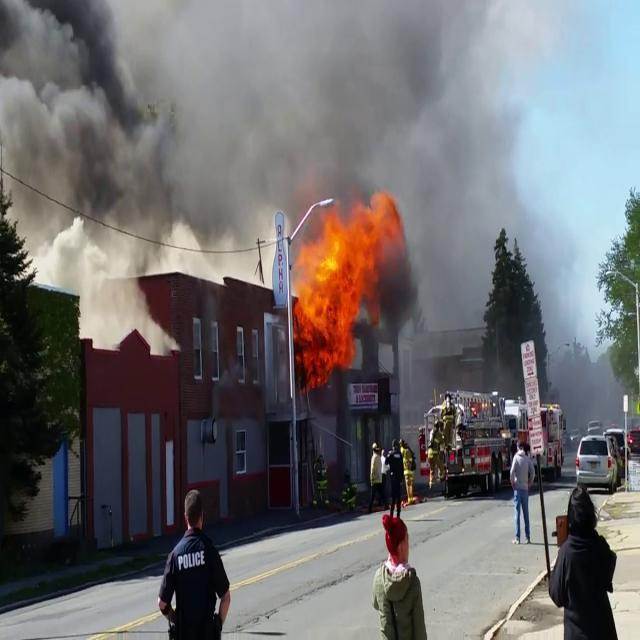Fire: (286, 192, 388, 374)
Smoke: (0, 0, 485, 229), (0, 0, 184, 283)
